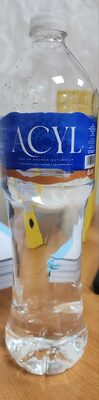Acyl: (5, 20, 94, 380)
